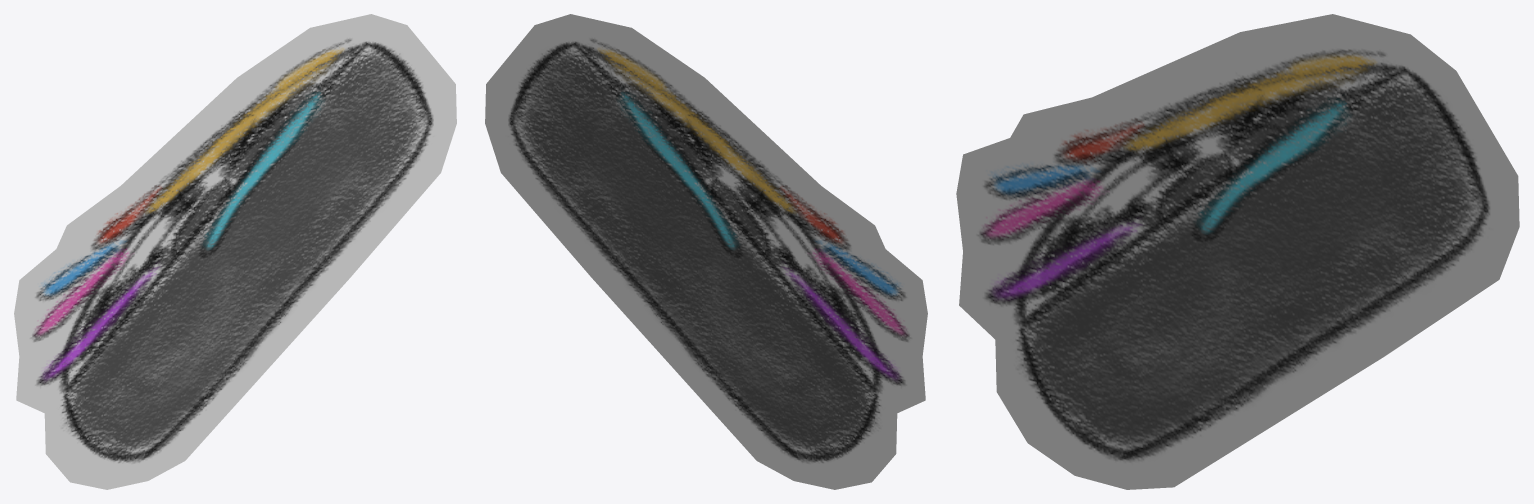
File: FanOff.fbx
3 views of the same model, side by side, from view 1: azimuth 30°, elevation 25°; view 2: azimuth 150°, elevation 25°; view 3: azimuth 330°, elevation 25° (orthographic). The views are drawn at different scales.
Parts seen in each view (by area): view 1: FanOff; view 2: FanOff; view 3: FanOff.
Part boxes in pixels (x1=…): FanOff: x1=14, y1=14, x2=456, y2=489; FanOff: x1=485, y1=14, x2=927, y2=489; FanOff: x1=956, y1=14, x2=1519, y2=489.
Bounding box in the file's own units: 24.83 × 22.16 × 3.61e-06.
1 material, 1 textured.
